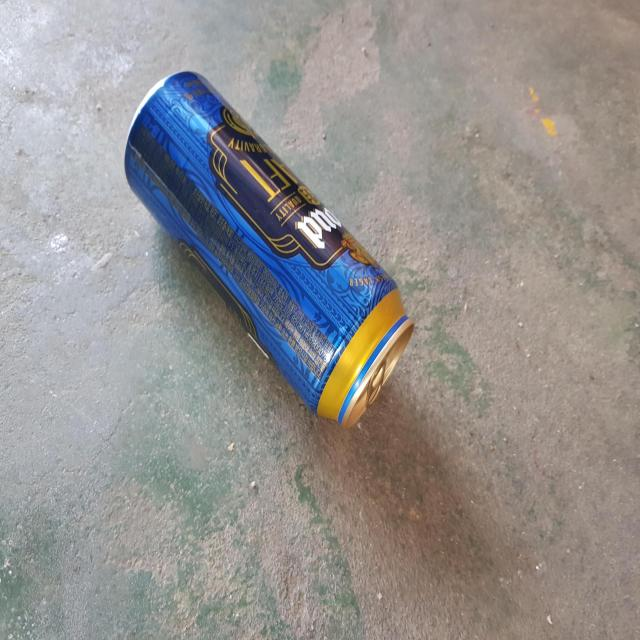can: (124, 71, 414, 428)
